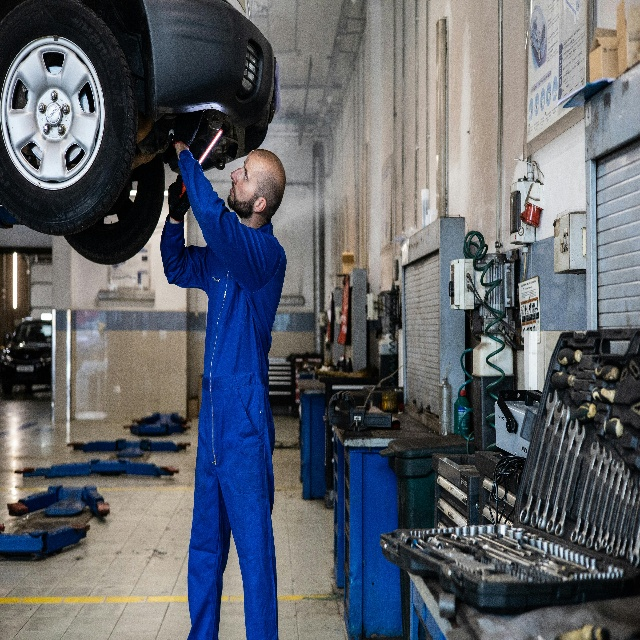Guantes: (167, 173, 191, 223), (173, 109, 203, 147)
